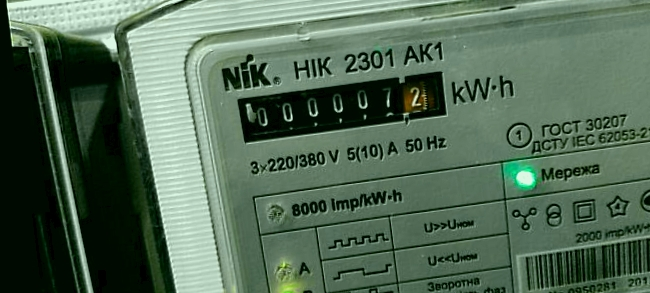0: (254, 103, 271, 129), (330, 91, 347, 115), (280, 100, 296, 124), (355, 87, 371, 111), (306, 95, 321, 119)
2: (408, 84, 424, 109)
7: (381, 84, 396, 109)
screen: (226, 60, 459, 153)
